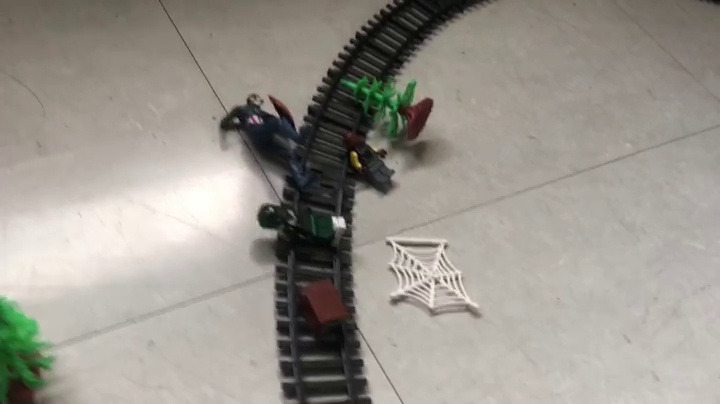box: (295, 277, 351, 344)
people: (220, 94, 322, 196), (258, 202, 349, 257), (340, 132, 396, 189)
tree: (337, 73, 435, 142)
web: (380, 236, 481, 316)
